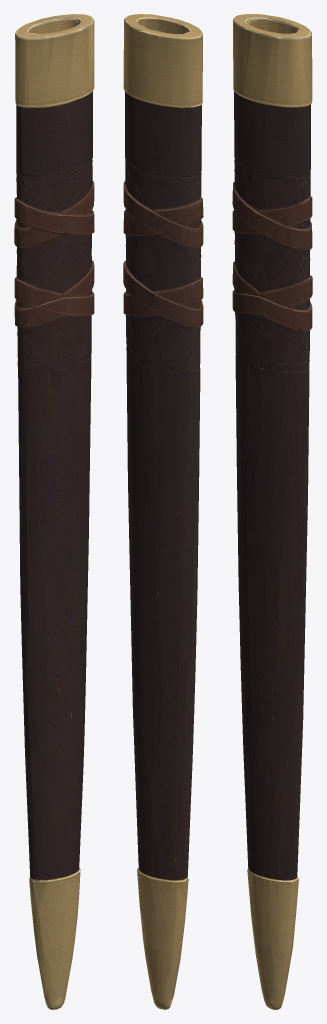
Rendered from scabbard_p2_w0.glb.
The picture shows the model from 3 angles, left to right: view 1: azimuth 30°, elevation 25°; view 2: azimuth 150°, elevation 25°; view 3: azimuth 330°, elevation 25°; orthographic projection.
Parts seen in each view (by area): view 1: scabbard_p2_w0; view 2: scabbard_p2_w0; view 3: scabbard_p2_w0.
Part boxes in pixels (left/top/right/bottom): scabbard_p2_w0: left=14, top=14, right=94, bottom=1009; scabbard_p2_w0: left=123, top=14, right=203, bottom=1009; scabbard_p2_w0: left=232, top=14, right=312, bottom=1009.
Bounding box in the file's own units: 0.0623 × 0.765 × 0.0324.
1 material, 1 textured.
